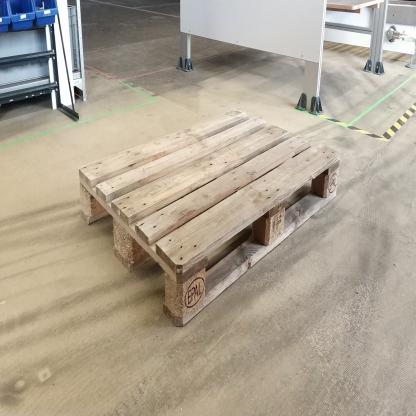BoxFace: (73, 102, 344, 343)
